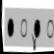correct: (5, 16, 16, 41)
not correct: (29, 17, 43, 52)
